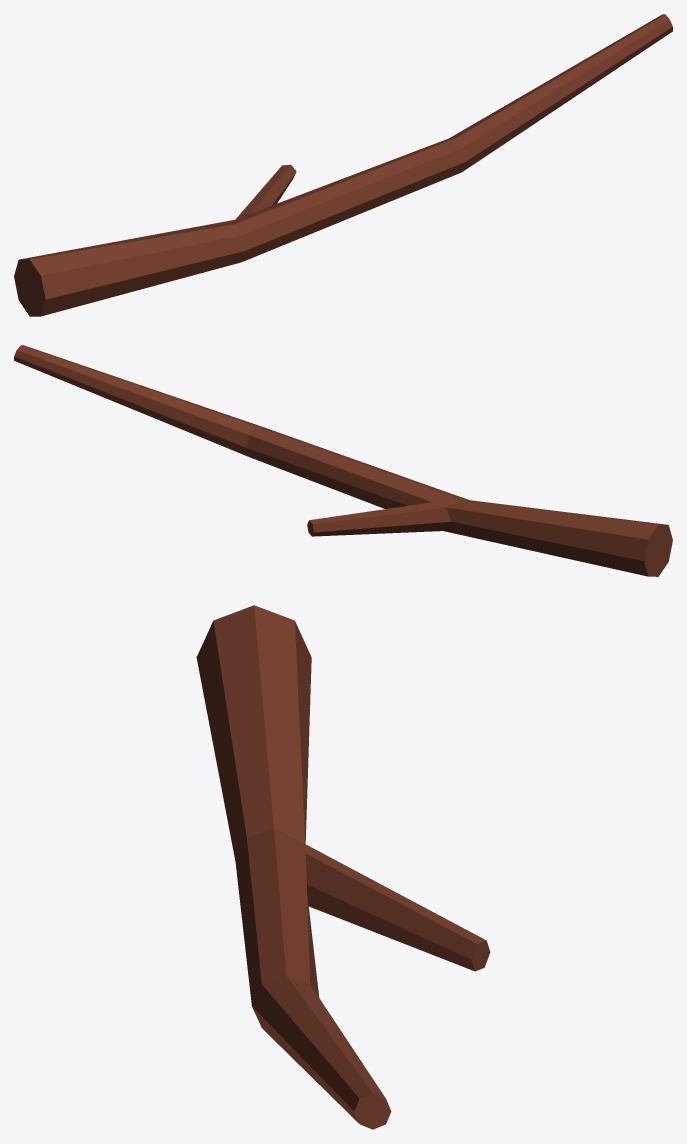
The model's file is pine_branch_type_4_LOD0.fbx.
3 renders of one model, top to bottom at view 1: azimuth 30°, elevation 25°; view 2: azimuth 150°, elevation 25°; view 3: azimuth 270°, elevation 25°, orthographic. The views are drawn at different scales.
Visible parts, largest first — view 1: Circle.033; view 2: Circle.033; view 3: Circle.033.
Part boxes in pixels (box(x1,y1,x2,y2)): Circle.033: box(14, 14, 672, 316); Circle.033: box(14, 345, 672, 576); Circle.033: box(196, 605, 490, 1129).
Bounding box in the file's own units: 311 × 51.31 × 64.58.
